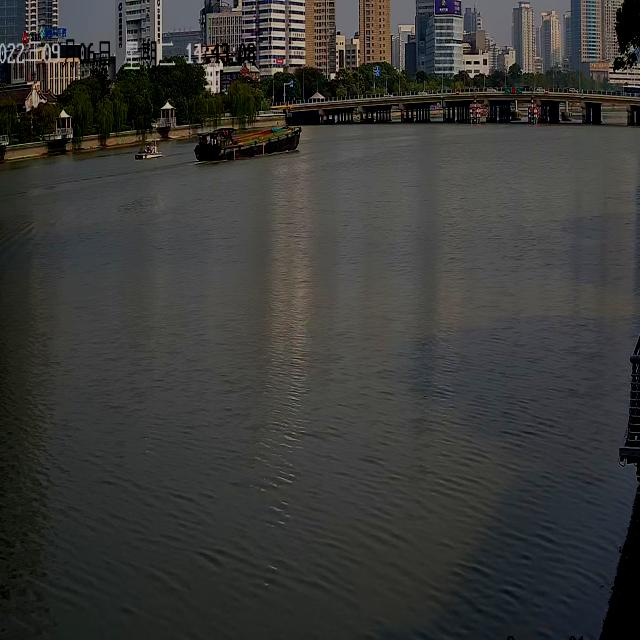ship: (193, 126, 301, 160), (134, 137, 162, 158)
